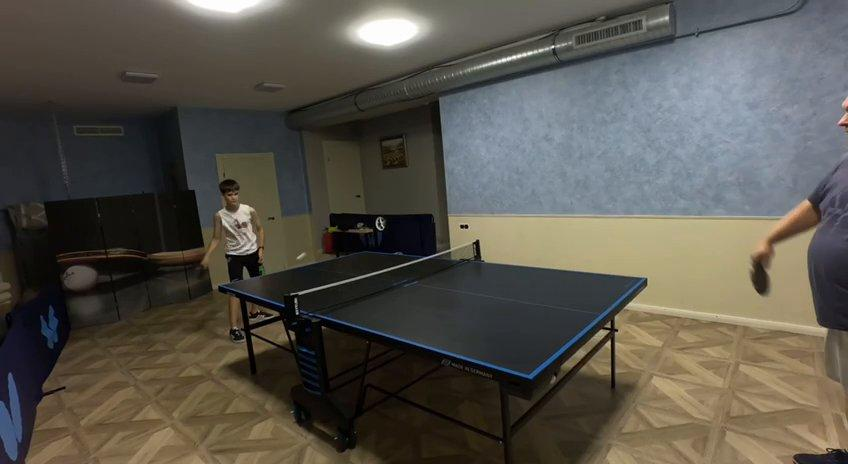Ball: (296, 251, 307, 261)
Net: (282, 241, 482, 324)
Player1: (201, 179, 264, 281)
Player2: (751, 156, 847, 418), (793, 449, 847, 463)
Table: (215, 255, 646, 379)
